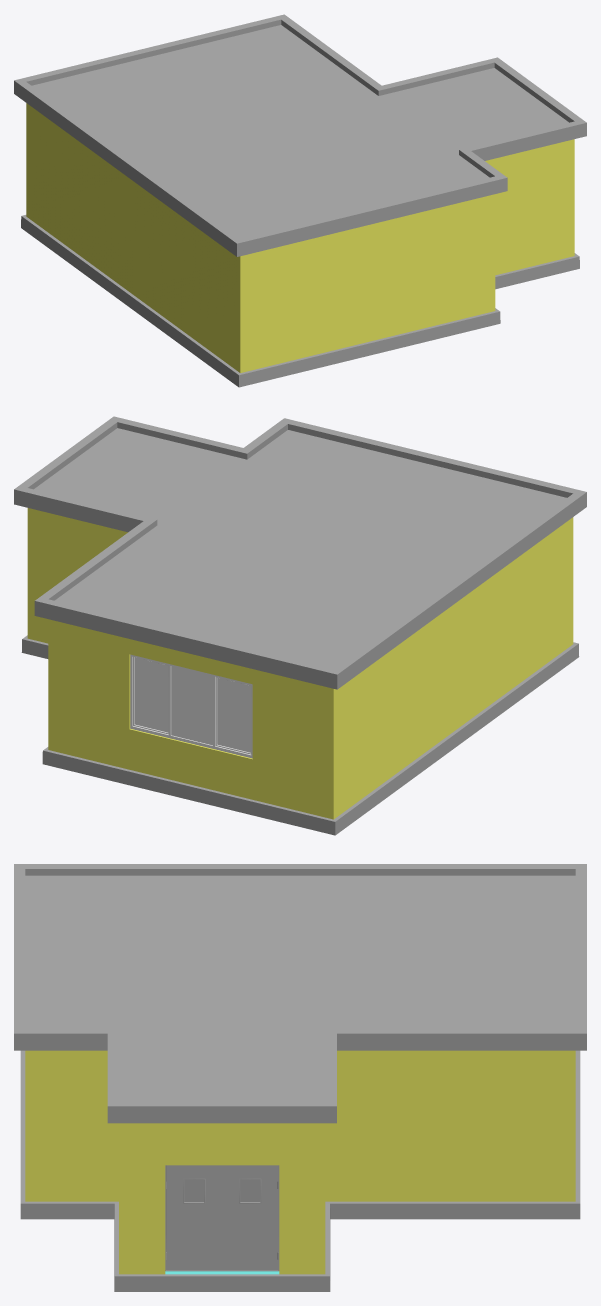
Rendered from Building.fbx.
The picture shows the model from 3 angles, top to bottom: view 1: azimuth 30°, elevation 25°; view 2: azimuth 150°, elevation 25°; view 3: azimuth 270°, elevation 25°; orthographic projection. The views are drawn at different scales.
Visible parts, largest first — view 1: roof, walls, foundation; view 2: roof, walls, foundation, window, left_window, right_window; view 3: roof, walls, foundation, left_door, right_door, door.
Part boxes in pixels (bbox=[...]): roof: bbox=[14, 14, 586, 256]; walls: bbox=[26, 103, 574, 372]; foundation: bbox=[21, 215, 579, 387]; roof: bbox=[14, 416, 586, 689]; walls: bbox=[27, 508, 573, 819]; foundation: bbox=[21, 635, 579, 835]; window: bbox=[130, 654, 252, 758]; left_window: bbox=[215, 677, 251, 754]; right_window: bbox=[133, 656, 168, 734]; roof: bbox=[14, 864, 586, 1123]; walls: bbox=[25, 1050, 575, 1274]; foundation: bbox=[20, 1050, 580, 1291]; left_door: bbox=[166, 1165, 222, 1269]; right_door: bbox=[222, 1165, 278, 1269]; door: bbox=[165, 1165, 279, 1271].
Bounding box in the file's own units: 1000 × 363 × 1000.
